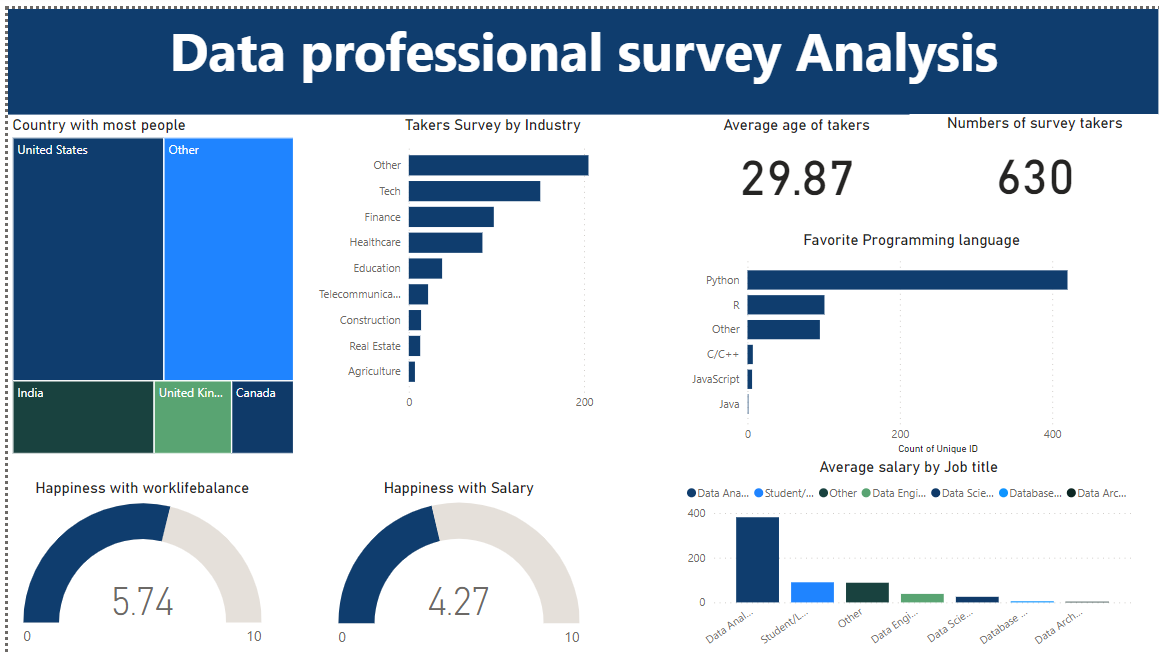

The dashboard page shown, as its layout file describes it:
{"tool":"powerbi","page":{"name":"Page 1","canvas":[1280,720],"ordinal":0},"visuals":[{"type":"textbox","box":[0,0,1279.4,117.2],"z":0},{"type":"card","title":"Numbers of survey takers","fields":{"Values":["CountNonNull(Data Professional Survey.Unique ID)"]},"box":[1001.5,116.5,278.3,106.8],"z":1},{"type":"card","title":"Average age of takers","fields":{"Values":["Avg(Data Professional Survey.Q10 - Current Age)"]},"box":[752.4,118.1,249.2,105.2],"z":2},{"type":"barChart","title":"Takers Survey by Industry","fields":{"Category":["Data Professional Survey.Q4 - What Industry do you work in?.1"],"Y":["CountNonNull(Data Professional Survey.Unique ID)"]},"box":[325.2,118.1,427.1,336.5],"z":3},{"type":"columnChart","title":"Average salary by Job title","fields":{"Category":["Data Professional Survey.Q1 - Which Title Best Fits your Current Role?.1"],"Y":["CountNonNull(Data Professional Survey.Average salary)"],"Series":["Data Professional Survey.Q1 - Which Title Best Fits your Current Role?.1"]},"box":[749.1,498.3,504.8,221.7],"z":4},{"type":"barChart","title":"Favorite Programming language","fields":{"Category":["Data Professional Survey.Q5 - Favorite Programming Language.1"],"Y":["CountNonNull(Data Professional Survey.Unique ID)"]},"box":[749.1,245.9,511.3,252.4],"z":5},{"type":"gauge","title":"Happiness with worklifebalance","fields":{"Y":["Avg(Data Professional Survey.Q6 - How Happy are you in your Current Position with the following? (Work/Life Balance))"],"MinValue":["Min(Data Professional Survey.Q6 - How Happy are you in your Current Position with the following? (Work/Life Balance))"],"MaxValue":["Max(Data Professional Survey.Q6 - How Happy are you in your Current Position with the following? (Work/Life Balance))1"]},"box":[11.3,521,275.1,199],"z":6},{"type":"gauge","title":"Happiness with Salary","fields":{"Y":["Avg(Data Professional Survey.Q6 - How Happy are you in your Current Position with the following? (Salary))"],"MaxValue":["Max(Data Professional Survey.Q6 - How Happy are you in your Current Position with the following? (Salary))"],"MinValue":["Min(Data Professional Survey.Q6 - How Happy are you in your Current Position with the following? (Salary))"]},"box":[362.4,521,278.3,199],"z":7},{"type":"treemap","title":"Country with most people","fields":{"Group":["Data Professional Survey.Q11 - Which Country do you live in?.1"],"Values":["CountNonNull(Data Professional Survey.Q11 - Which Country do you live in?.1)"]},"box":[0,118.1,322,380.2],"z":8}]}

Visuals, with their boxes in screenshot pixels (x1, y1, x2, y2), scaled from the page's 1280x720 canvas onto the 1159x655 screenshot:
textbox: [x1=0, y1=0, x2=1158, y2=107]
"Numbers of survey takers" card: [x1=907, y1=106, x2=1158, y2=203]
"Average age of takers" card: [x1=681, y1=107, x2=907, y2=203]
"Takers Survey by Industry" barChart: [x1=294, y1=107, x2=681, y2=414]
"Average salary by Job title" columnChart: [x1=678, y1=453, x2=1135, y2=654]
"Favorite Programming language" barChart: [x1=678, y1=224, x2=1141, y2=453]
"Happiness with worklifebalance" gauge: [x1=10, y1=474, x2=259, y2=654]
"Happiness with Salary" gauge: [x1=328, y1=474, x2=580, y2=654]
"Country with most people" treemap: [x1=0, y1=107, x2=292, y2=453]
